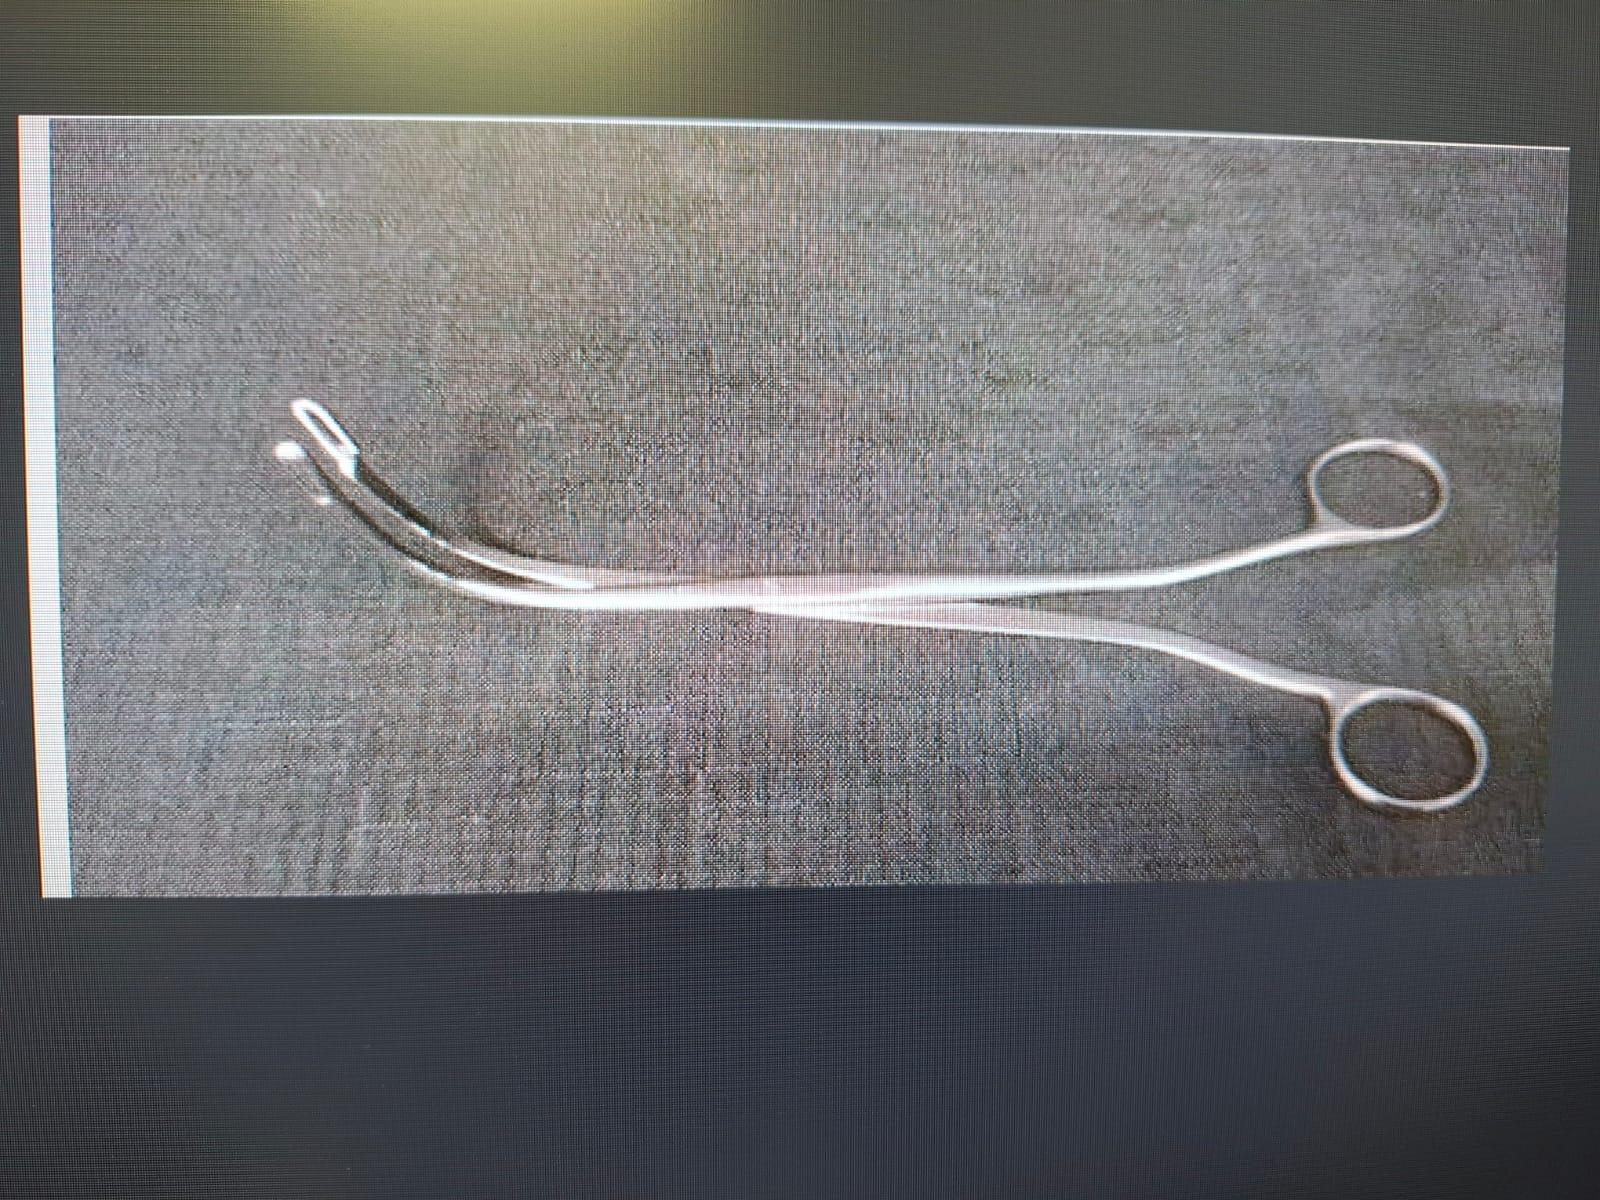Randall Forceps: (266, 362, 1506, 839)
